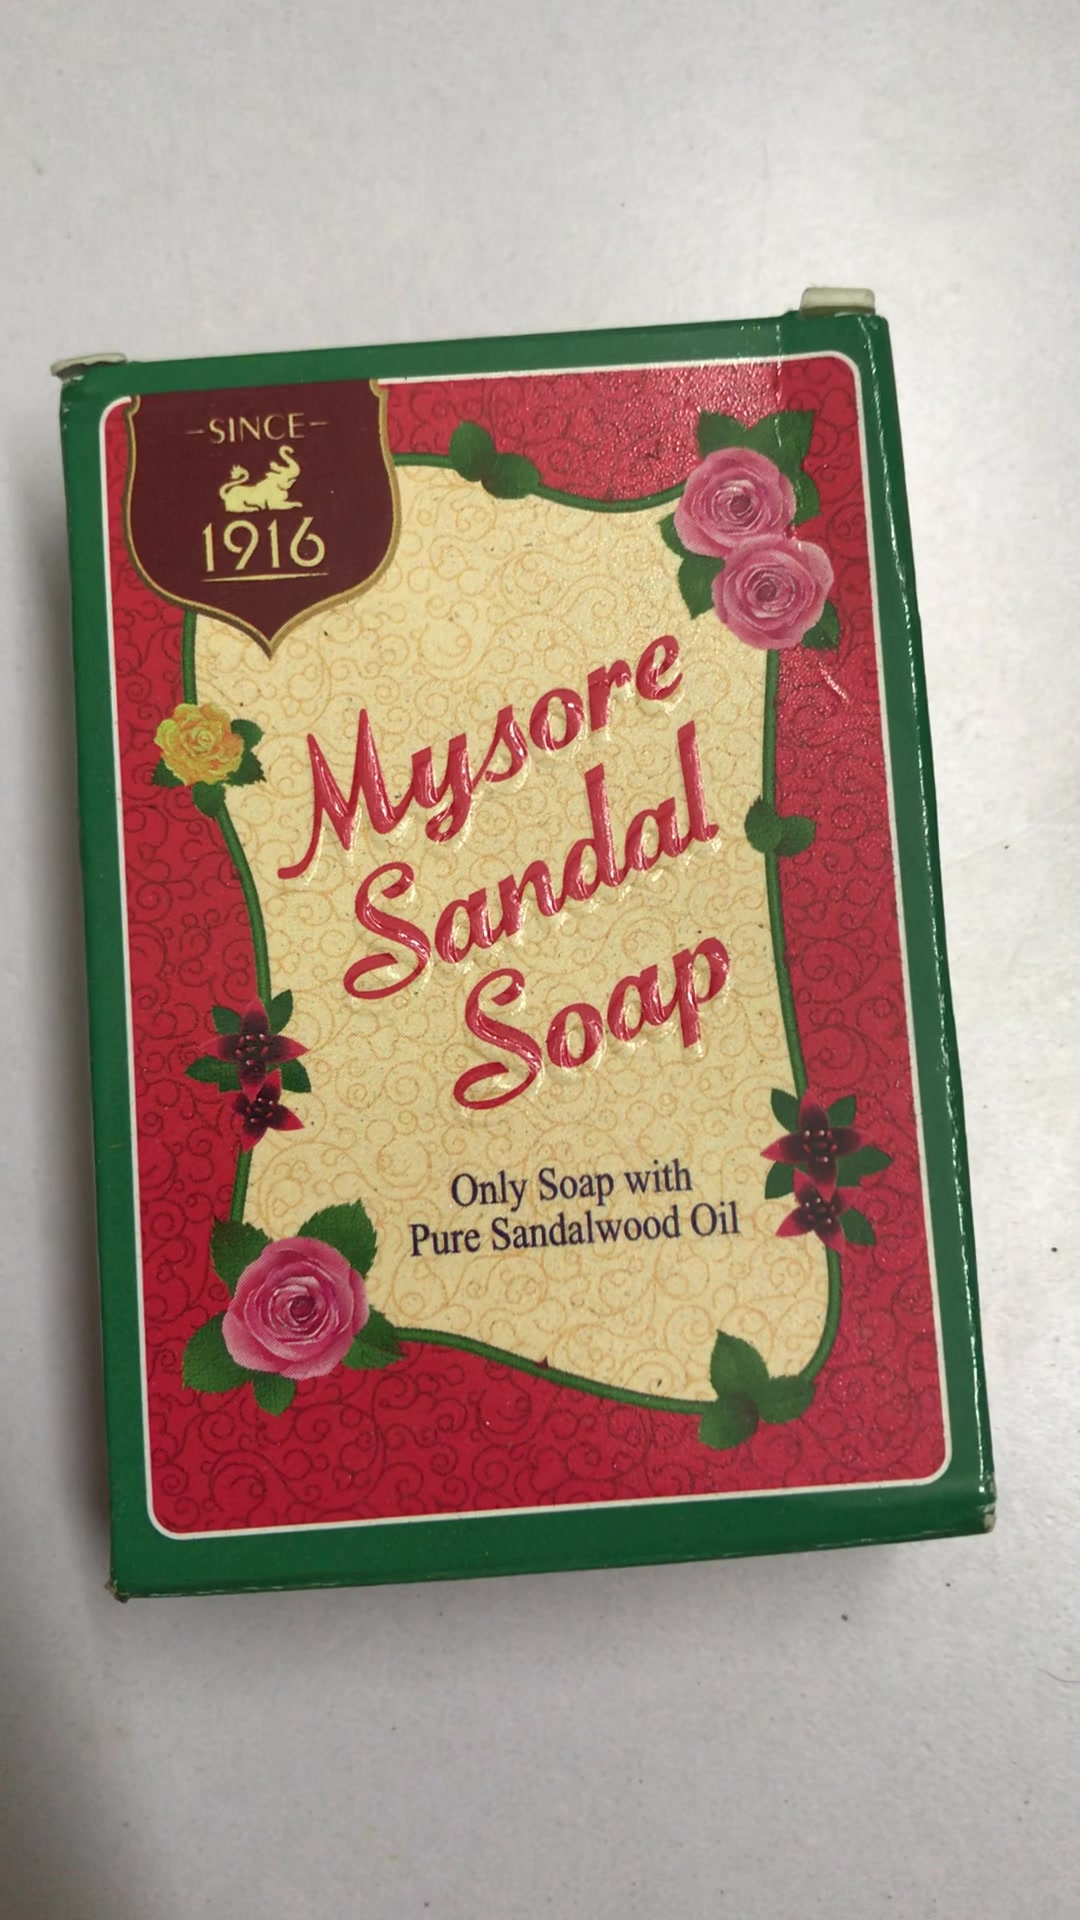mysore sandal soap: (74, 309, 986, 1581)
